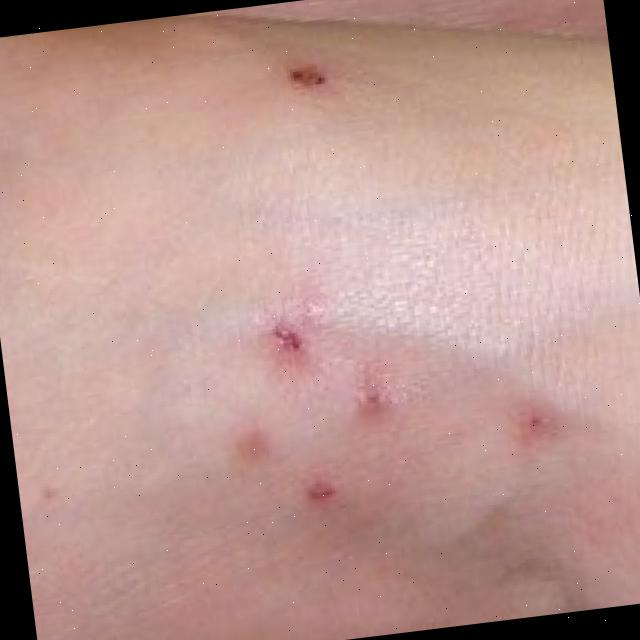kan emici bocekler: (230, 29, 387, 148), (212, 280, 350, 400), (454, 378, 577, 475), (180, 417, 294, 494), (278, 469, 359, 524), (343, 381, 406, 439)
